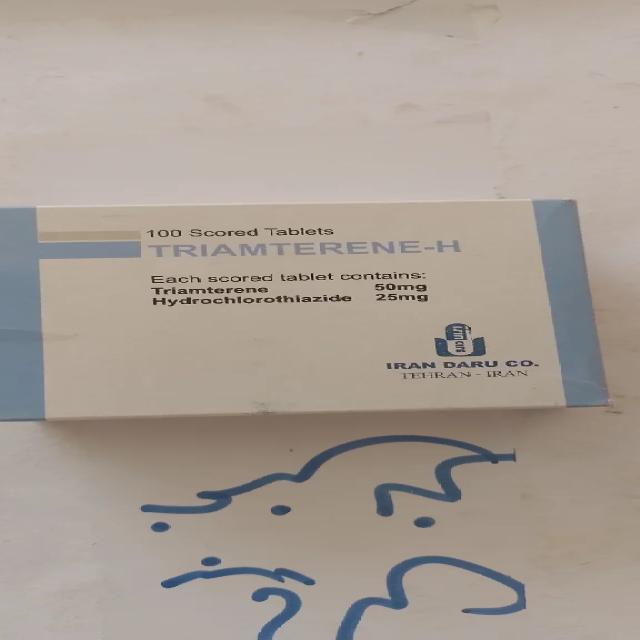drug-name: (146, 238, 462, 262)
